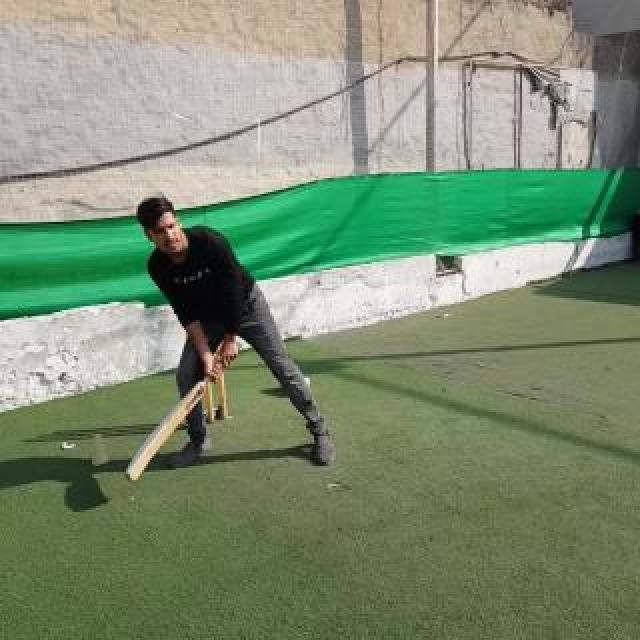bat: (126, 344, 240, 484)
